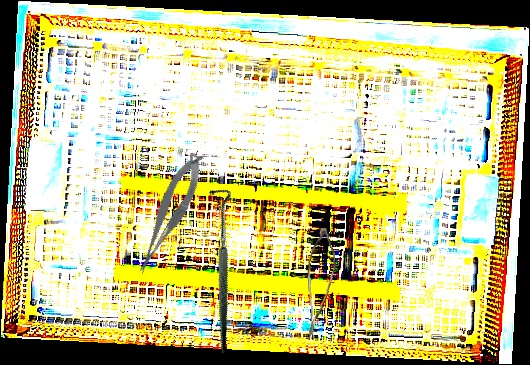Hook Surgical: (145, 183, 293, 354)
Micro Scissor: (121, 149, 216, 277), (300, 226, 341, 343)
